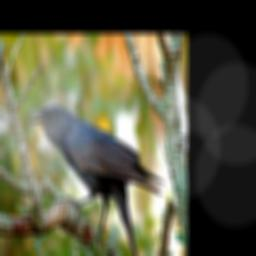Crow: (29, 105, 166, 256)
